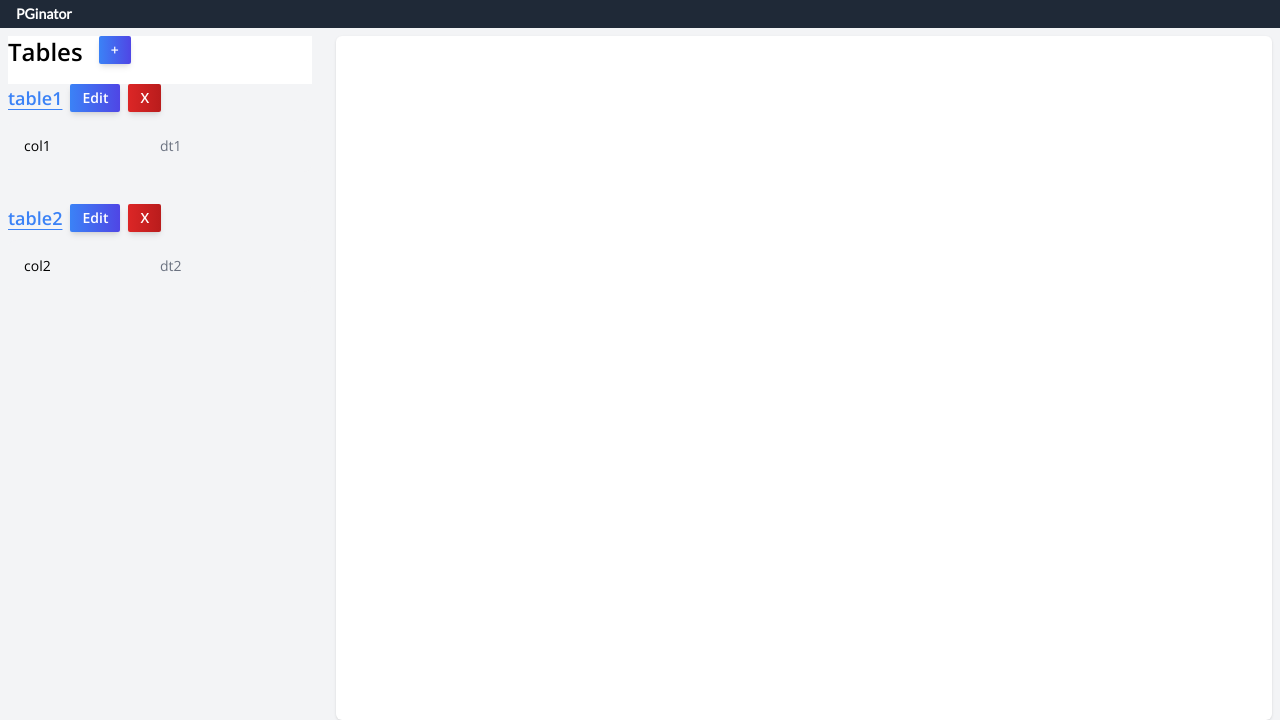
Error handling › displays an error message when the request fails
This screenshot has width=1280, height=720.
Expected: the link "table1" is shown, [8,84,62,112]
Step 1. Click the button "Edit" next to "table1" → [96, 98], box [70,84,120,112]
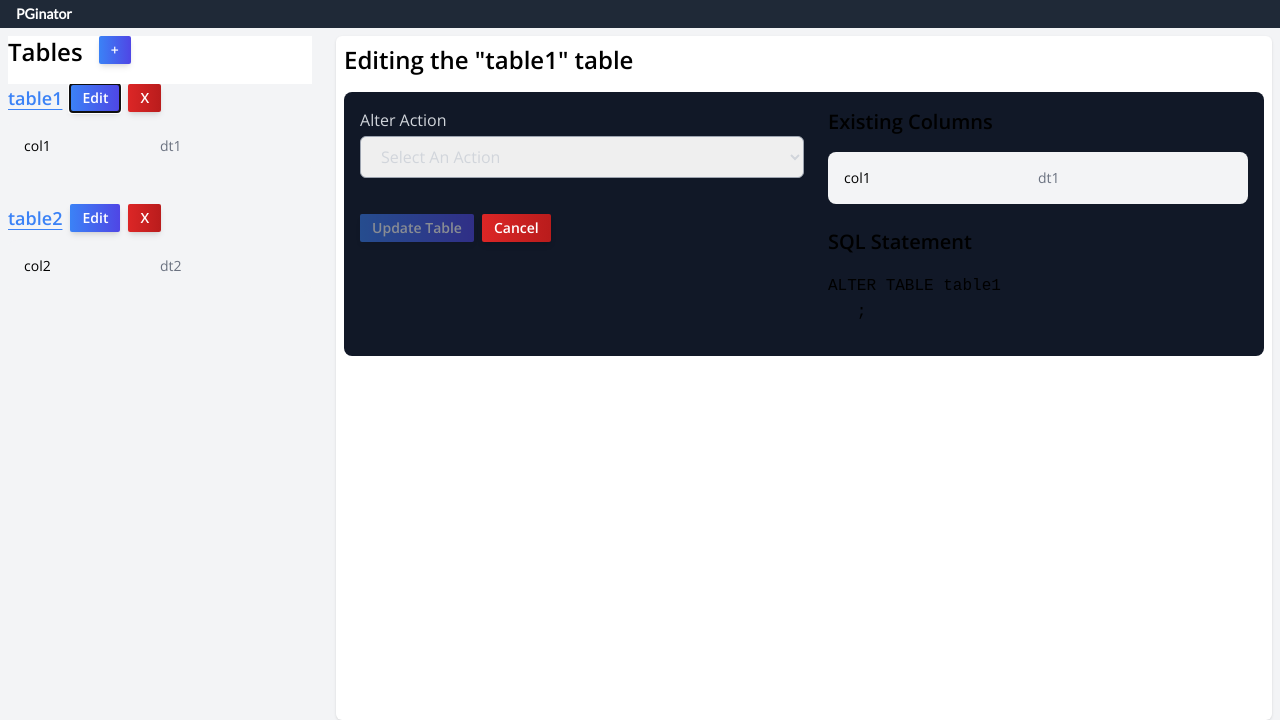
Step 2. Select "DROP" in the dropdown labelled "Alter Action" → [582, 157], box [360,136,804,178]
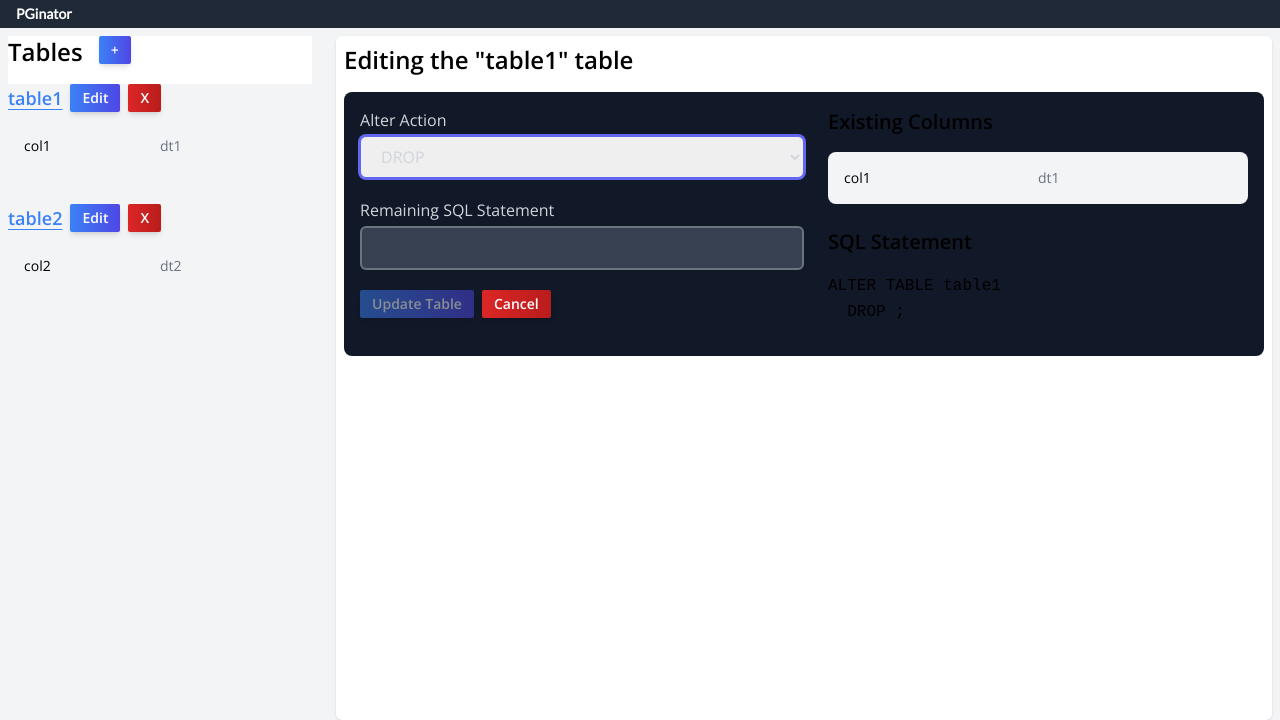
Step 3. Click the field labelled "Remaining SQL Statement" → [582, 248], box [360,226,804,270]
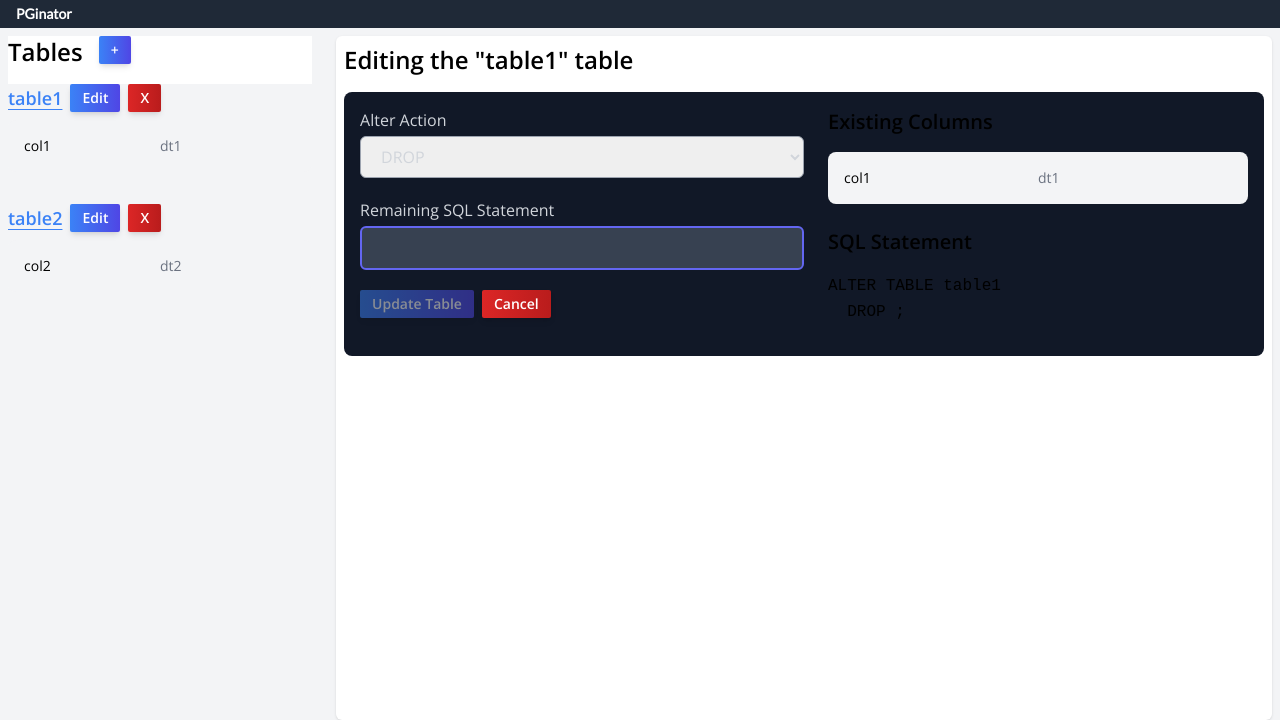
Step 4. Type keys "column_name"
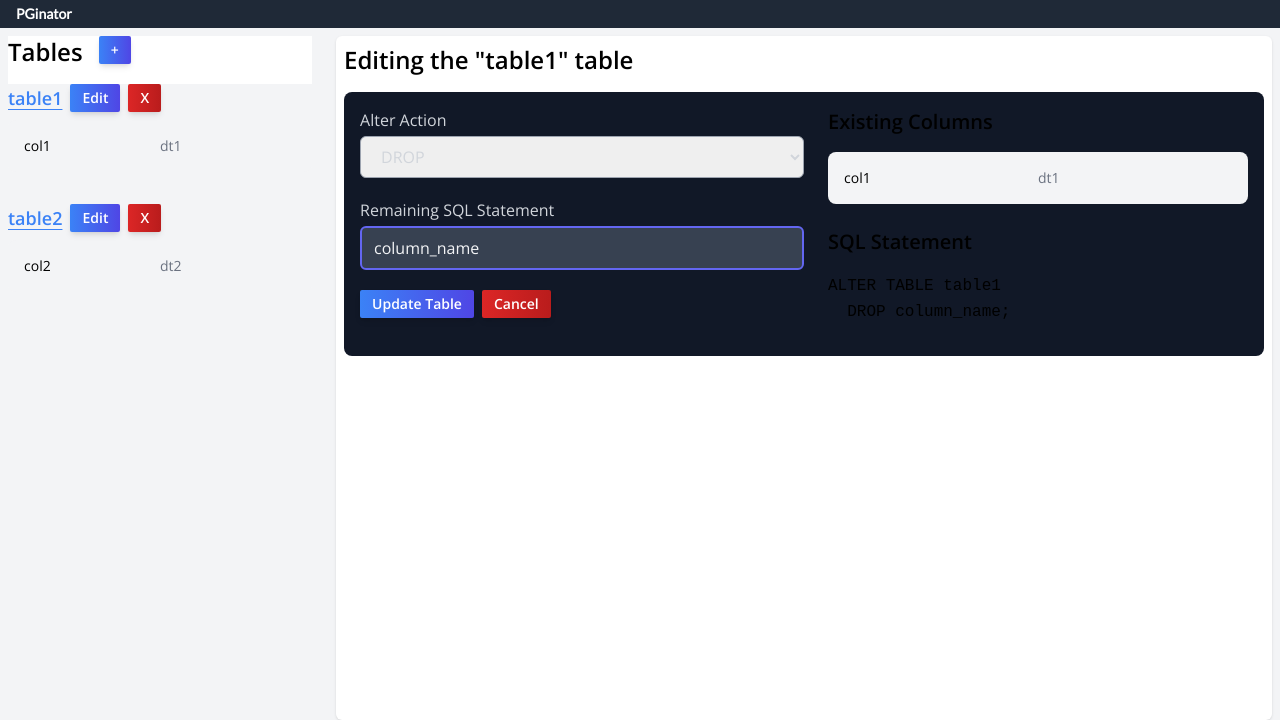
Step 5. Click the button "Update Table" → [417, 304], box [360,290,474,318]
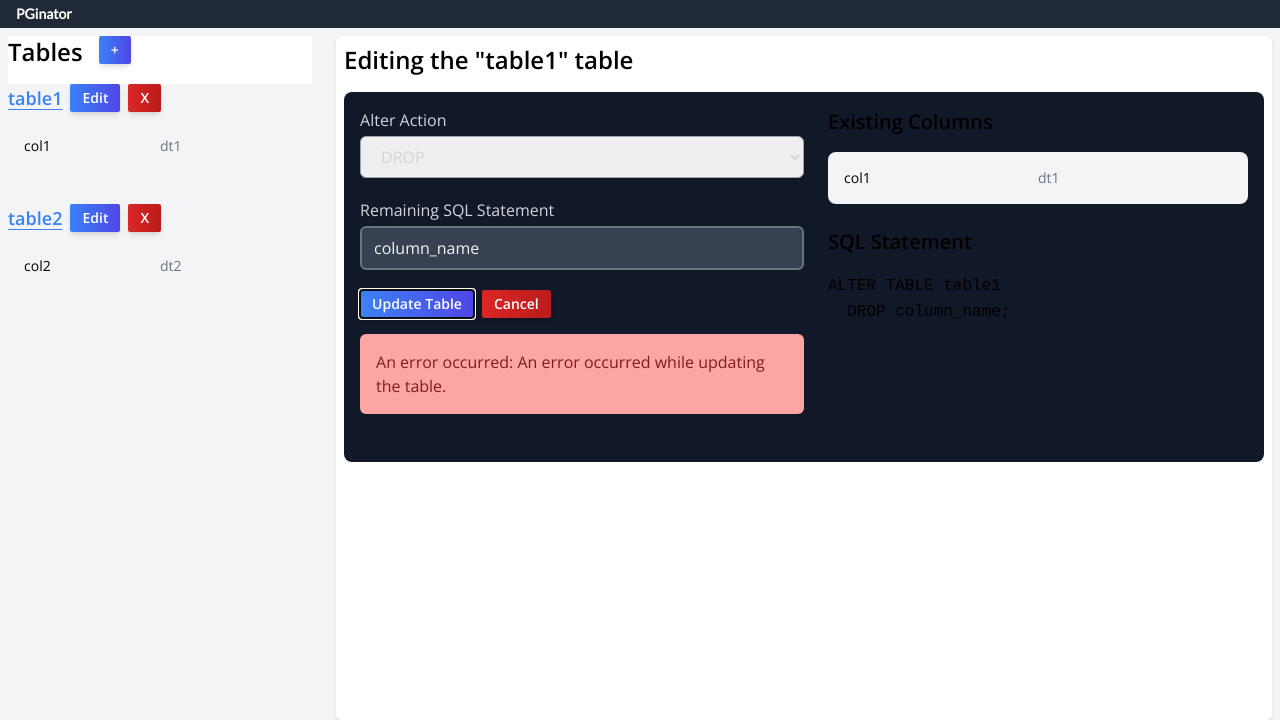
Expected: the text "error occurred" is shown, [376,351,765,397]
